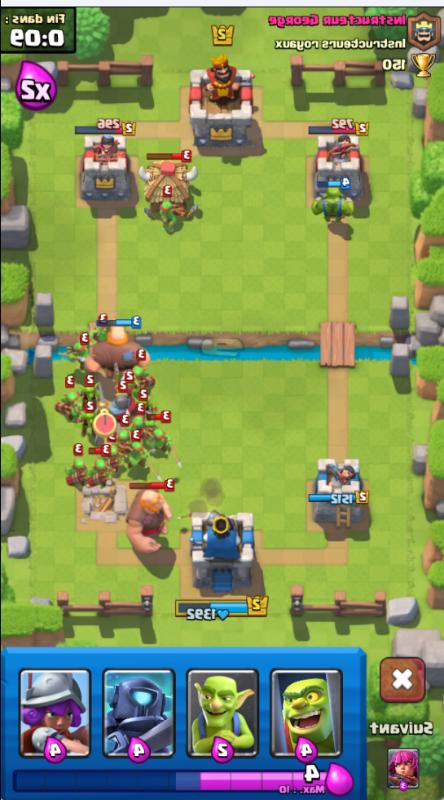chevalier: (110, 393, 137, 422)
geant: (86, 313, 149, 380), (123, 478, 177, 555)
gobelin: (79, 408, 100, 438), (80, 379, 102, 407), (135, 395, 156, 414), (113, 381, 131, 399)
gobelin_lances: (156, 196, 182, 236), (63, 451, 88, 491), (87, 454, 115, 489), (131, 362, 156, 394), (149, 428, 171, 460), (65, 343, 87, 374), (90, 315, 112, 346), (128, 440, 149, 471), (59, 391, 79, 421), (100, 446, 121, 474), (116, 431, 134, 457), (130, 414, 147, 437)
